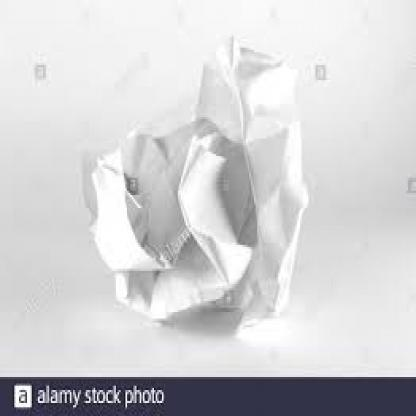paper: (82, 30, 306, 336)
